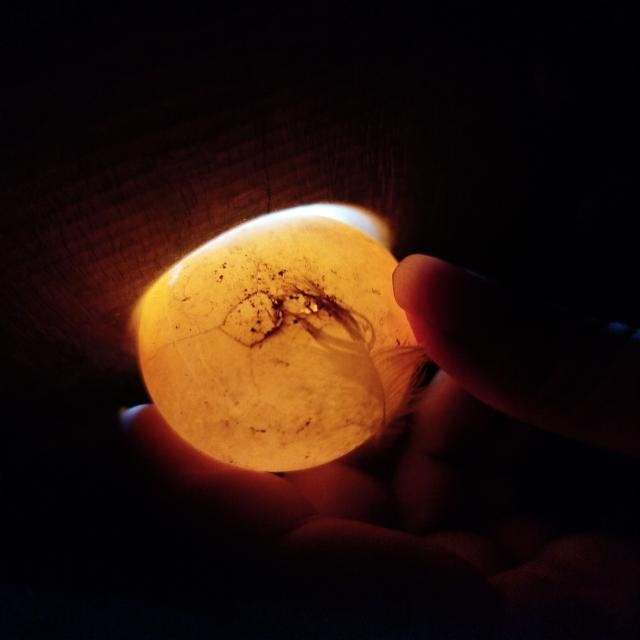Rachadura: (219, 292, 284, 349)
